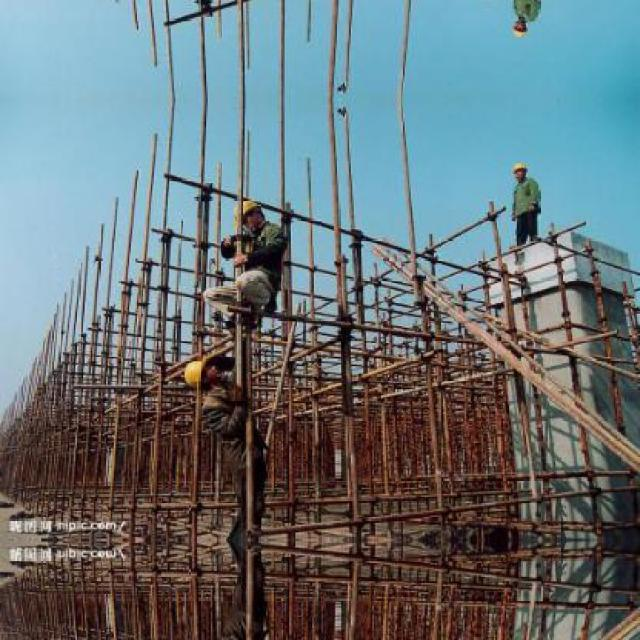helmet: (180, 356, 223, 386), (231, 196, 264, 229), (508, 158, 528, 180), (508, 17, 528, 38)
